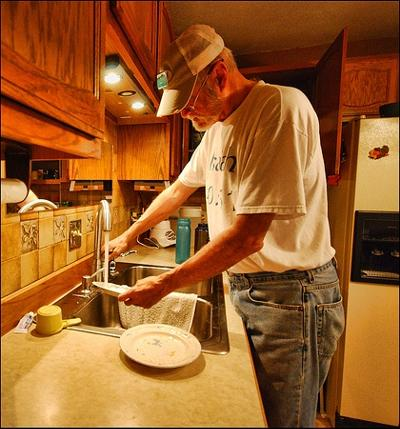person: (101, 25, 341, 429)
